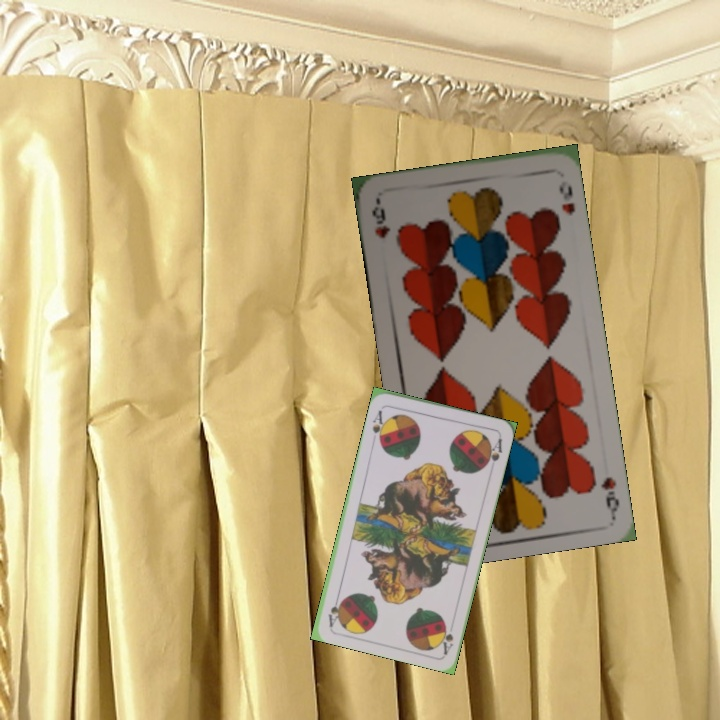H9: (596, 473, 622, 517), (367, 199, 393, 241)
SA: (436, 616, 457, 656), (368, 406, 389, 445)
